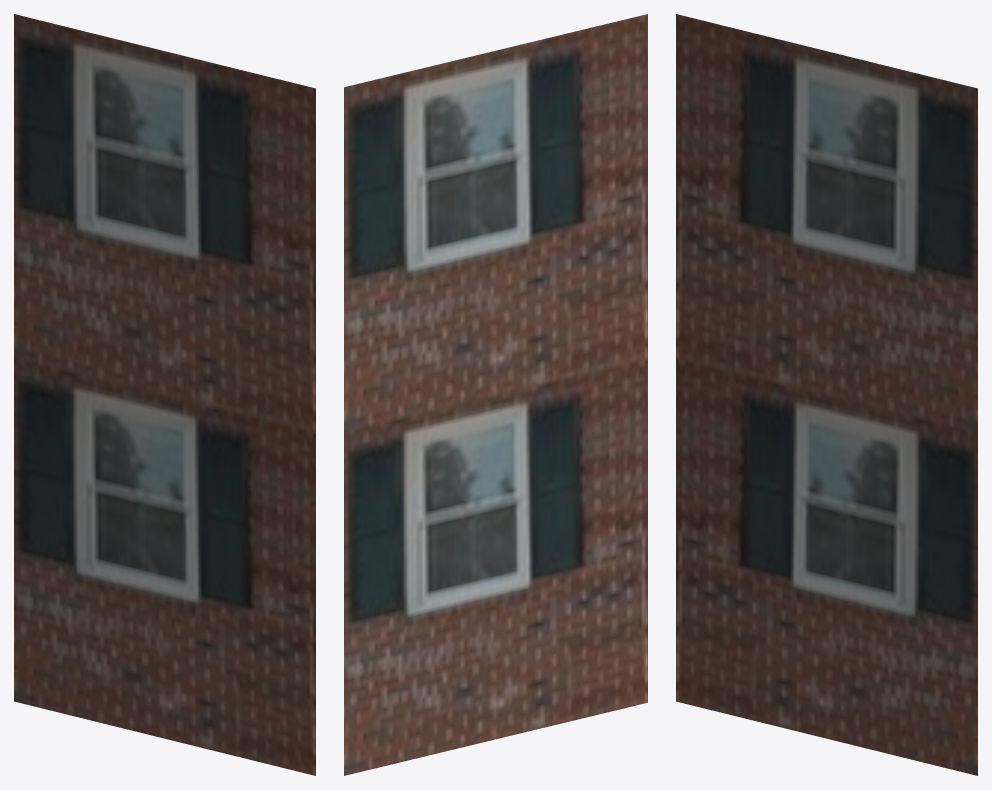
Rendered from ResTex__3037.fbx.
3 views of the same model, side by side, from view 1: azimuth 90°, elevation 25°; view 2: azimuth 150°, elevation 25°; view 3: azimuth 270°, elevation 25° (orthographic).
Parts seen in each view (by area): view 1: CityEngineMaterial_14_m; view 2: CityEngineMaterial_14_m; view 3: CityEngineMaterial_14_m.
Part boxes in pixels (x1=…): CityEngineMaterial_14_m: x1=14, y1=14, x2=315, y2=775; CityEngineMaterial_14_m: x1=344, y1=14, x2=647, y2=775; CityEngineMaterial_14_m: x1=676, y1=14, x2=977, y2=775.
Size of the model in its own units: 1.39 by 6 by 2.39.
Materials: 1 (1 with a texture image).
